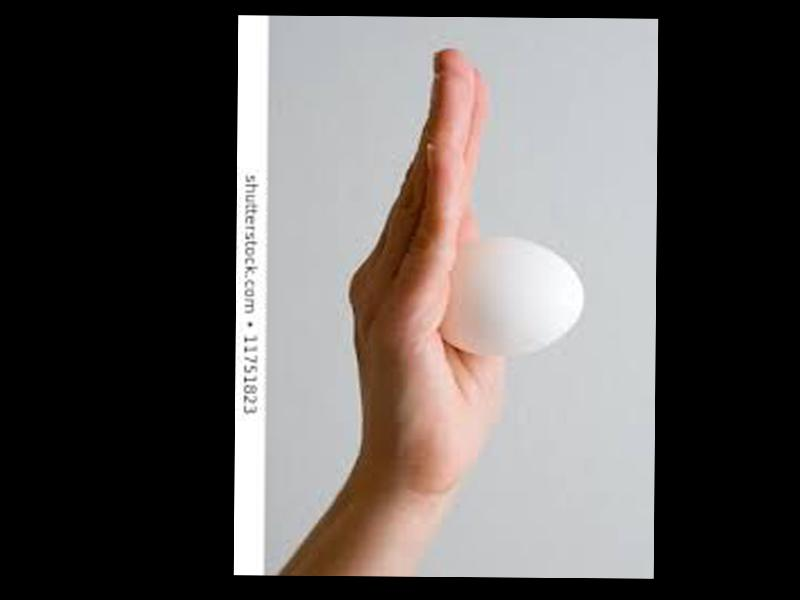Eggs: (438, 237, 583, 350)
